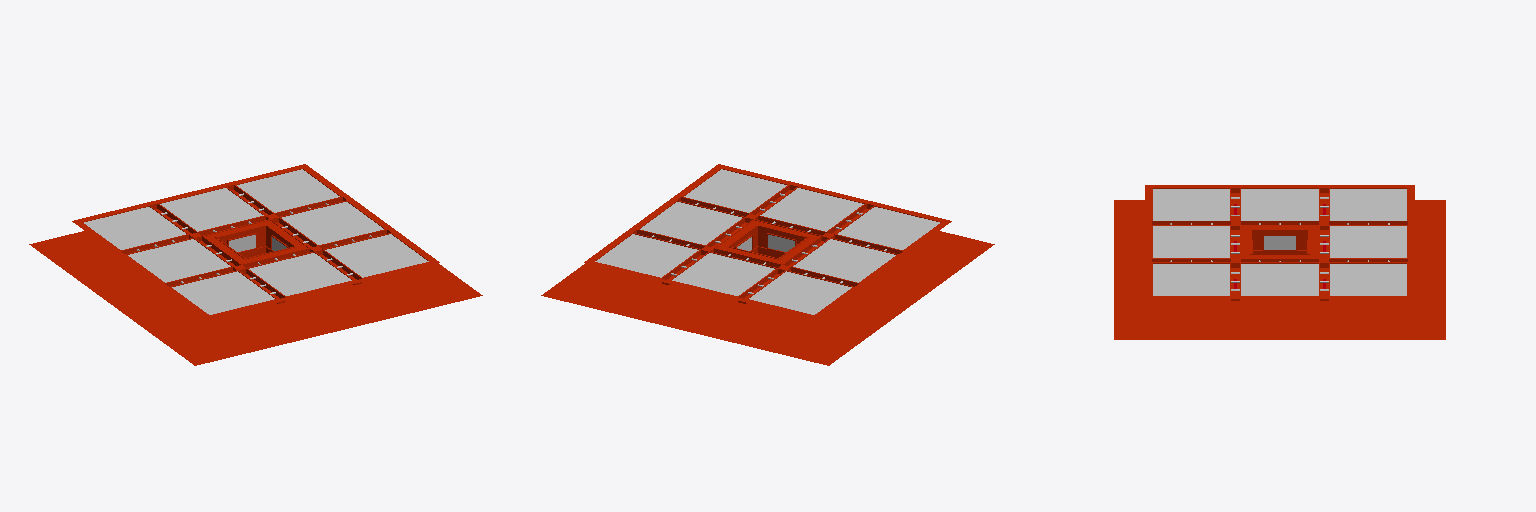
File: OneWall_mid.obj
The picture shows the model from 3 angles: view 1: azimuth 30°, elevation 25°; view 2: azimuth 150°, elevation 25°; view 3: azimuth 270°, elevation 25°; orthographic projection.
Visible parts, largest first — view 1: Wall_Mid_Cube.006, PanelsLights_Cube.001; view 2: Wall_Mid_Cube.006, PanelsLights_Cube.001; view 3: Wall_Mid_Cube.006, PanelsLights_Cube.001.
Part boxes in pixels (x1,y1,x2,y2): Wall_Mid_Cube.006: (29, 164, 482, 365); PanelsLights_Cube.001: (84, 169, 428, 314); Wall_Mid_Cube.006: (541, 164, 994, 365); PanelsLights_Cube.001: (595, 169, 939, 314); Wall_Mid_Cube.006: (1114, 185, 1445, 339); PanelsLights_Cube.001: (1153, 189, 1406, 295).
Bounding box in the file's own units: 2.46 × 0.23 × 2.46.